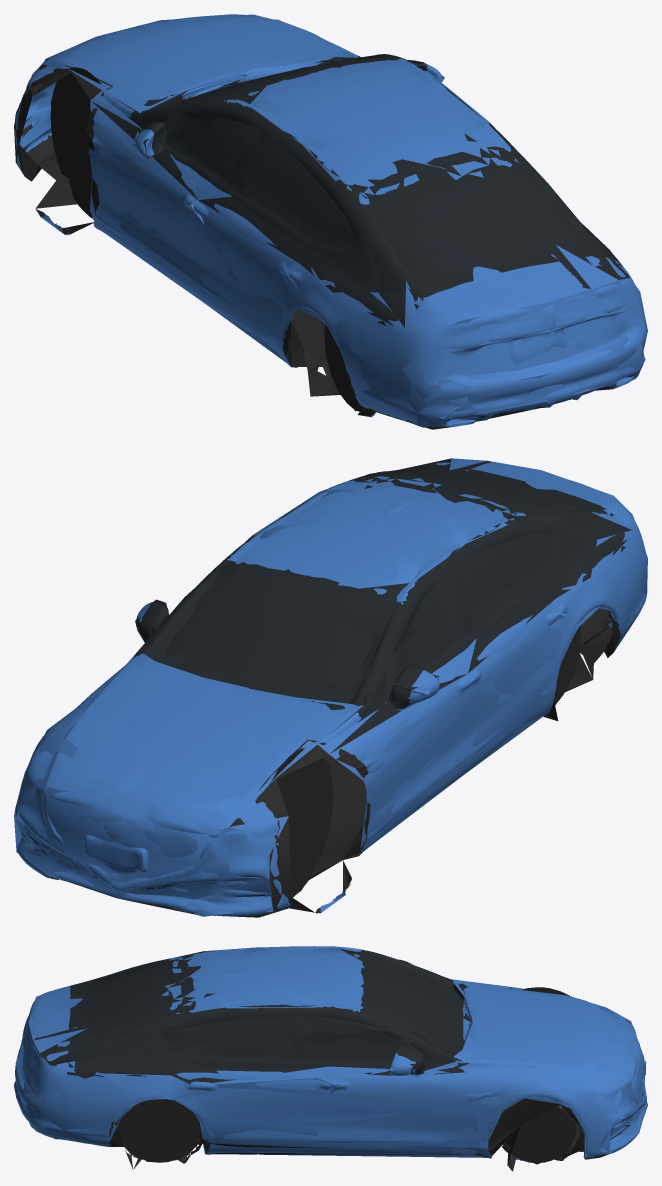
The model's file is genesis-g80.glb.
The picture shows the model from 3 angles, top to bottom: view 1: azimuth 30°, elevation 25°; view 2: azimuth 150°, elevation 25°; view 3: azimuth 270°, elevation 25°; orthographic projection. The views are drawn at different scales.
Visible parts, largest first — view 1: body, far; view 2: body, far; view 3: body, far.
Boxes of the visible parts, x1,y1,x2,y2 form: body: (15,14,646,429); far: (14,14,647,427); body: (14,460,646,917); far: (14,458,647,916); body: (14,946,647,1171); far: (15,946,646,1165).
Size of the model in its own units: 2.02 by 1.41 by 5.08.
